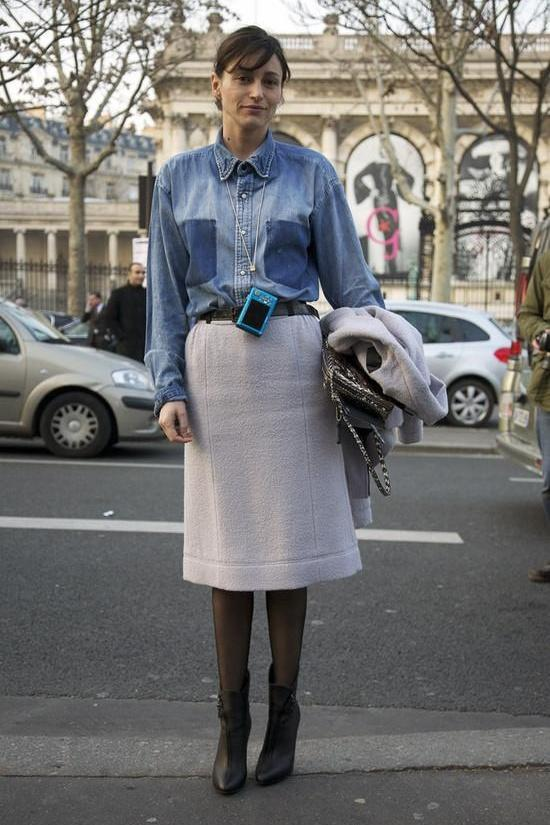shirt: (141, 123, 388, 412)
skirt: (180, 304, 363, 592)
